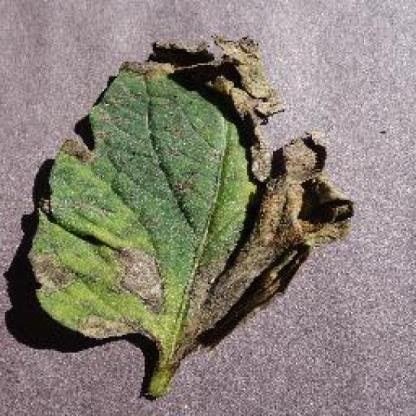Tomato_Blight: (29, 36, 350, 352)
